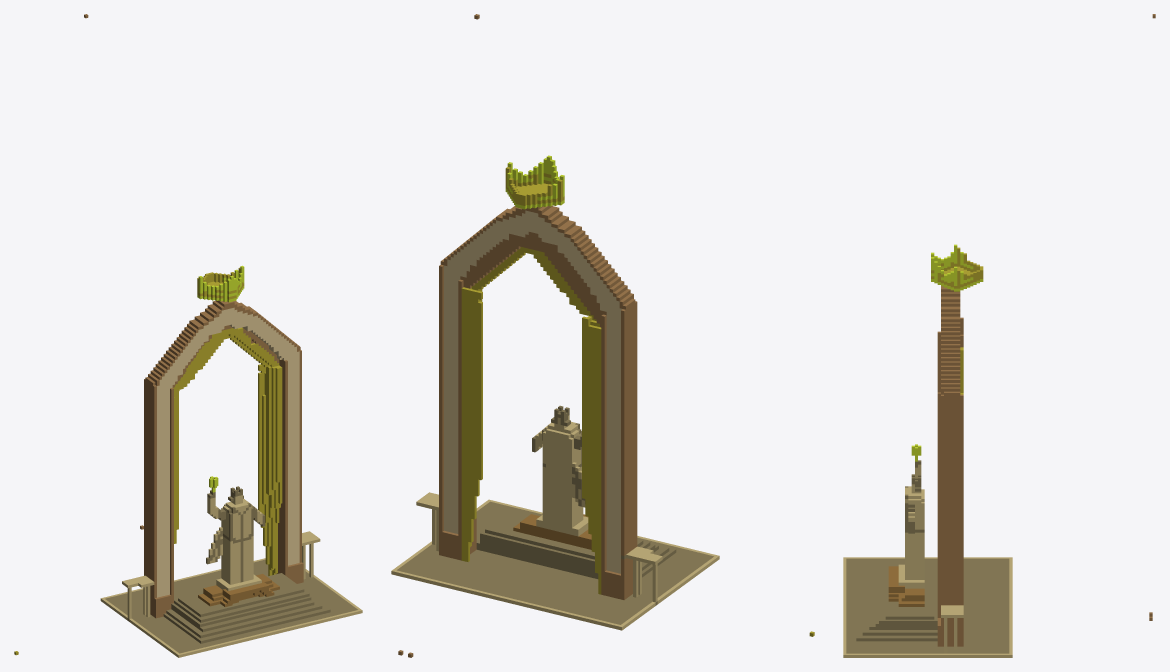
File: ismoil.glb
3 renders of one model, left to right at view 1: azimuth 30°, elevation 25°; view 2: azimuth 150°, elevation 25°; view 3: azimuth 270°, elevation 25°, orthographic. The views are drawn at different scales.
Visible parts, largest first — view 1: ismoil; view 2: ismoil; view 3: ismoil.
Part boxes in pixels (x1,y1,x2,y2): ismoil: (14,14,362,657); ismoil: (391,14,814,657); ismoil: (843,14,1155,657).
Size of the model in its own units: 11.8 by 19.4 by 9.6.
1 material, 1 textured.
